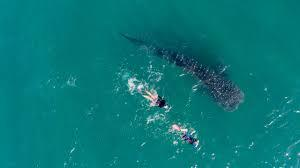Animal: (116, 30, 257, 118)
Person: (168, 123, 205, 149), (137, 87, 168, 110)
